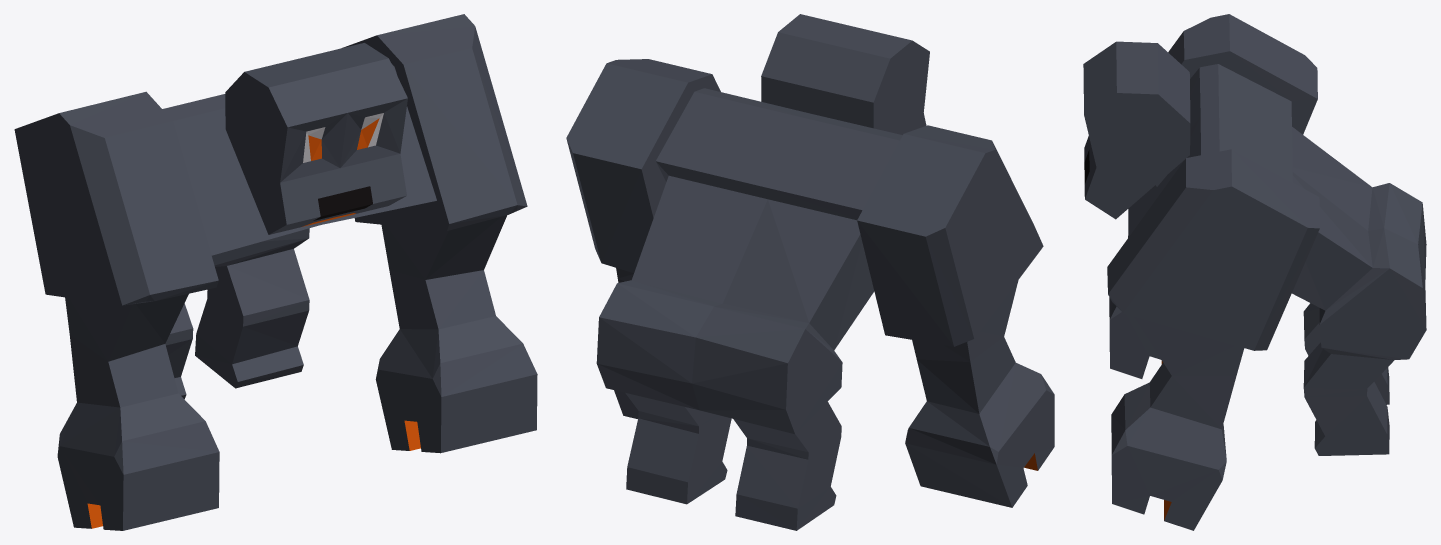
The model's file is kong_000010.obj.
3 renders of one model, left to right at view 1: azimuth 30°, elevation 25°; view 2: azimuth 150°, elevation 25°; view 3: azimuth 270°, elevation 25°, orthographic. The views are drawn at different scales.
Visible parts, largest first — view 1: Cube; view 2: Cube; view 3: Cube.
Boxes of the visible parts, x1,y1,x2,y2 form: Cube: (14, 14, 537, 530); Cube: (566, 14, 1054, 530); Cube: (1083, 14, 1426, 530).
Bounding box in the file's own units: 5.85 × 5.83 × 4.81.
1 material, 1 textured.
